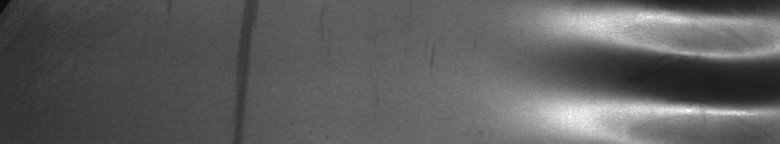ke: (584, 4, 776, 120)
